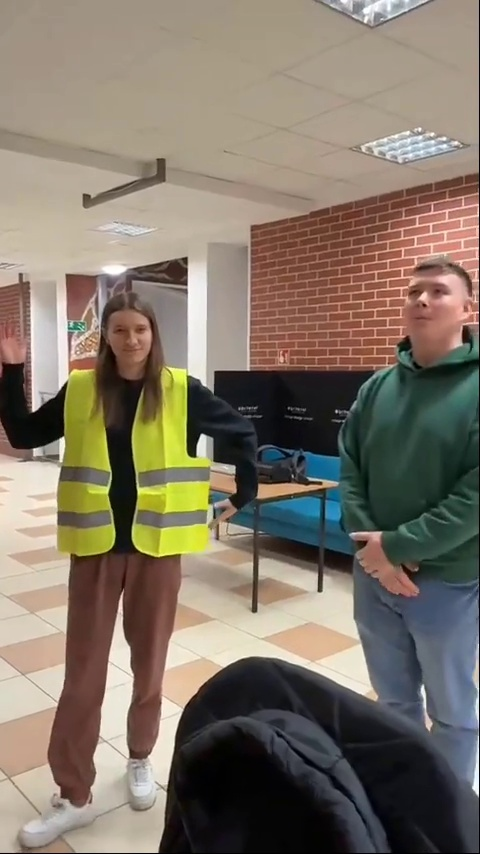no vest: (342, 259, 480, 756)
vest: (6, 295, 266, 843)
